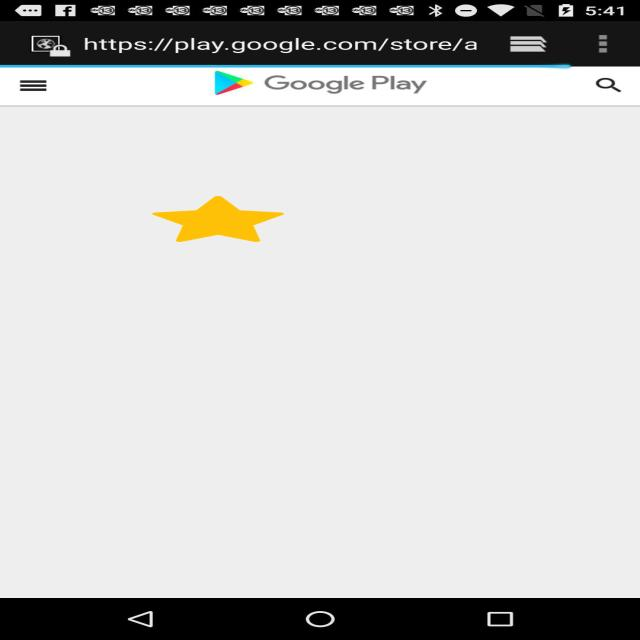forced continuity: (152, 196, 284, 242)
